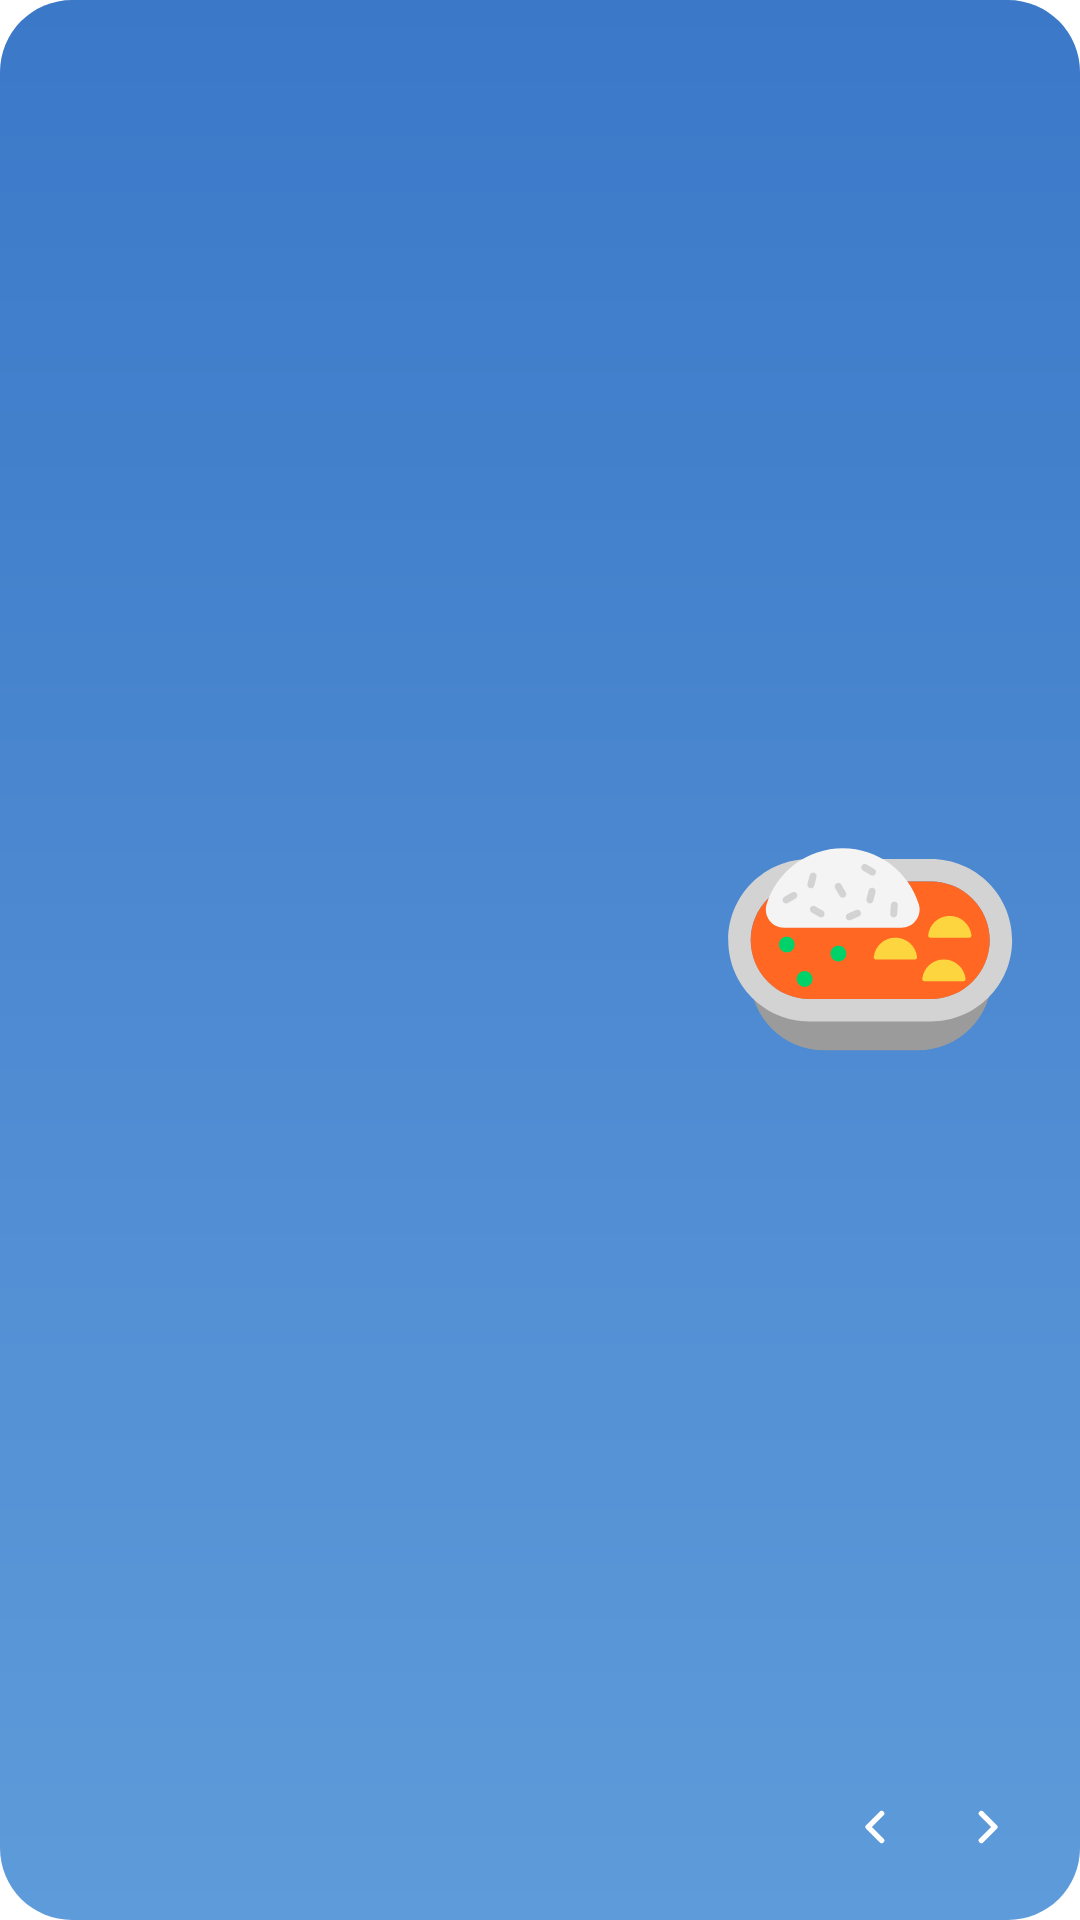

Icon bounding boxes for this 1080w x 1920h phone screenshot, format (x1, y1, x2, y2):
Next meal: (978, 1810, 998, 1844)
Previous meal: (865, 1810, 885, 1844)
